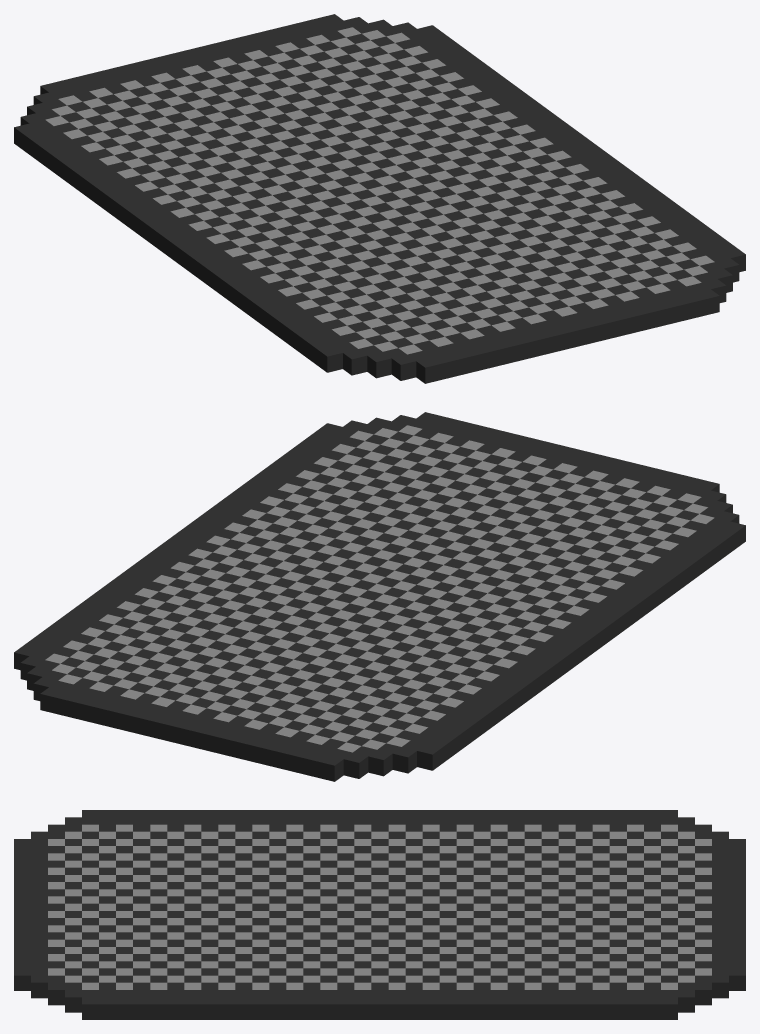
File: Decor-37.gltf
3 renders of one model, top to bottom at view 1: azimuth 30°, elevation 25°; view 2: azimuth 150°, elevation 25°; view 3: azimuth 270°, elevation 25°, orthographic. The views are drawn at different scales.
Visible parts, largest first — view 1: Node; view 2: Node; view 3: Node.
Part boxes in pixels (x1,y1,x2,y2): Node: [14, 14, 745, 383]; Node: [14, 412, 745, 781]; Node: [14, 810, 745, 1019].
Size of the model in its own units: 2.7 by 0.1 by 4.3.
Materials: 1 (1 with a texture image).
